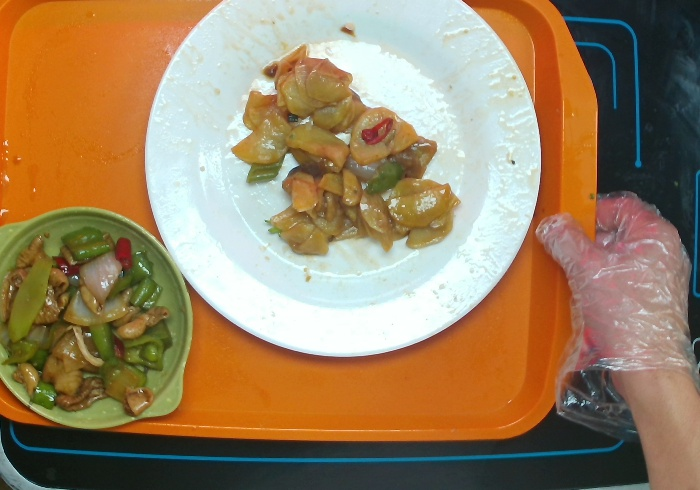NLDX-Da_Yuan_Pan: (144, 1, 542, 358)
NLDX-Lv_Hua_Shuang_Er_Die: (1, 207, 193, 432)
